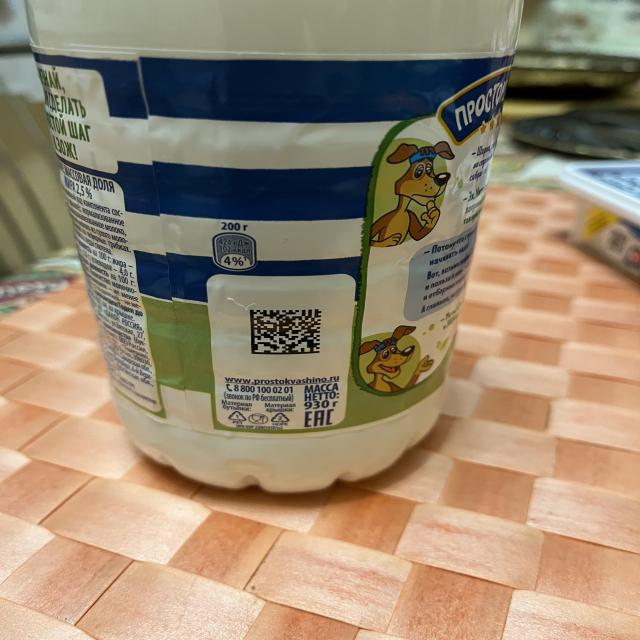datamatrix: (250, 310, 323, 356)
